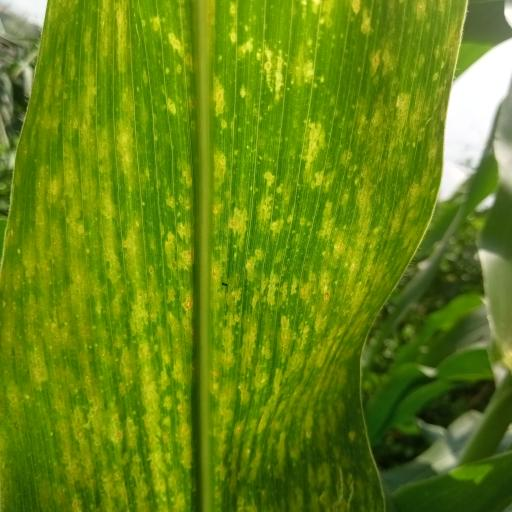Corn_Brown_Spots: (18, 10, 456, 507)
